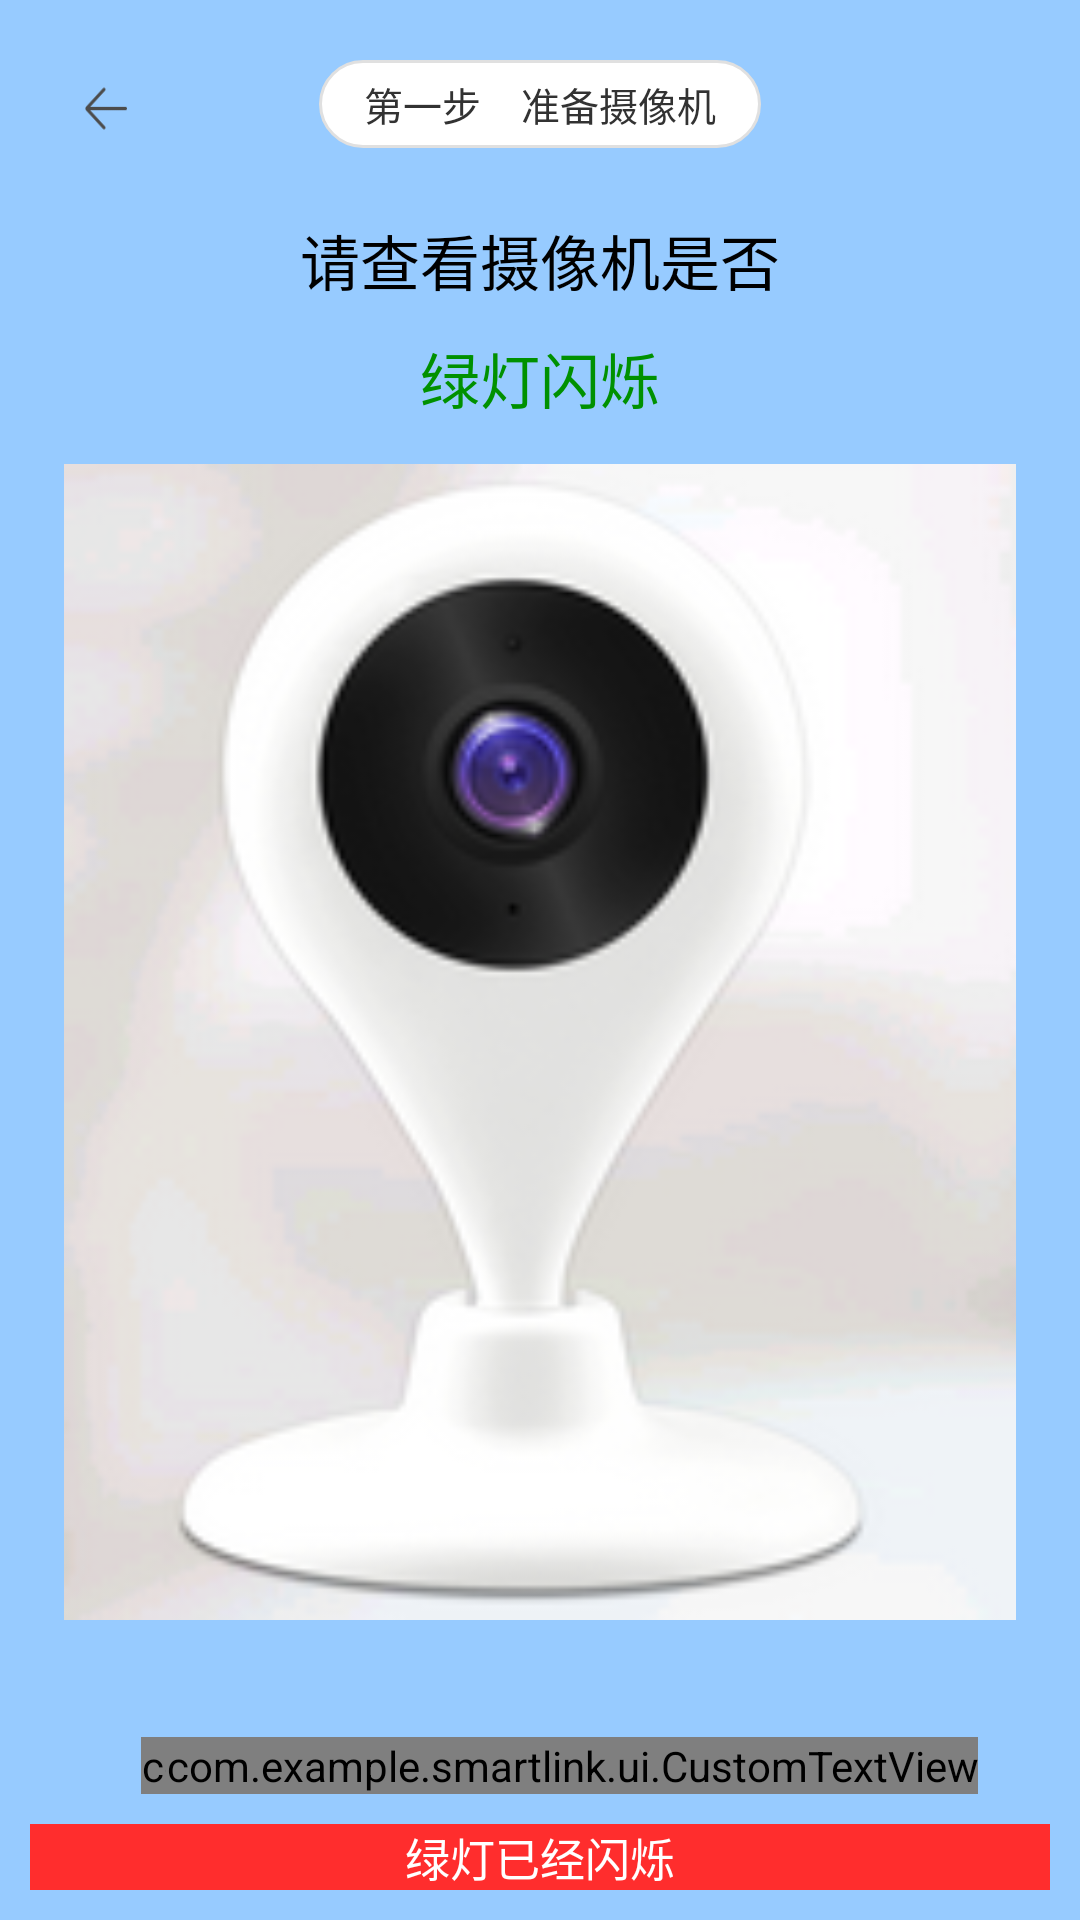

Icons on this 1080×1920 Android screen, each with the point to tap as point (x, y):
title back: point (106, 108)
